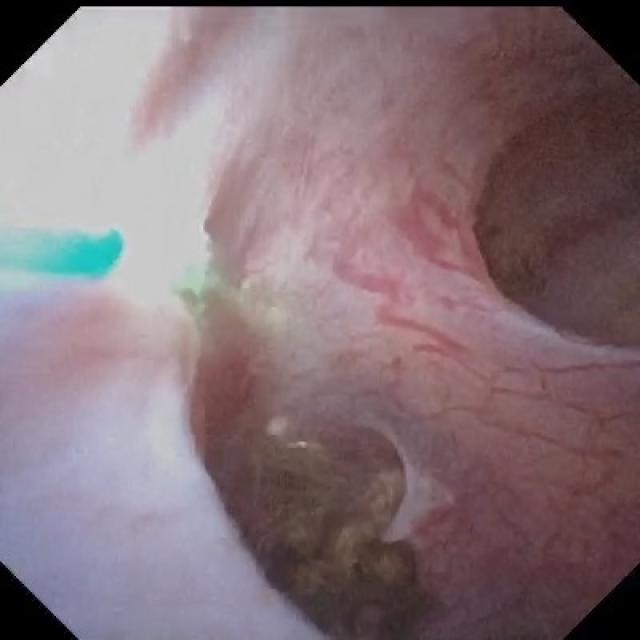stone-new: (211, 416, 422, 638)
